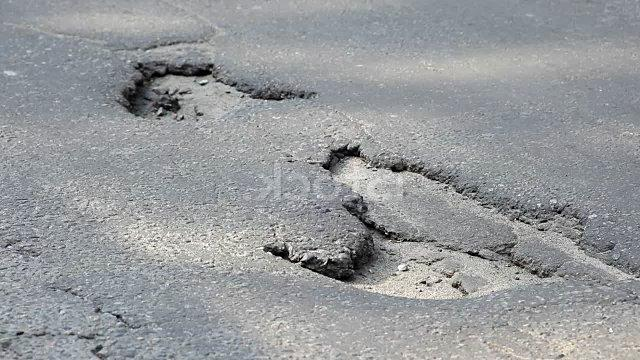ROAD_OBSTACLE: (198, 202, 390, 302)
